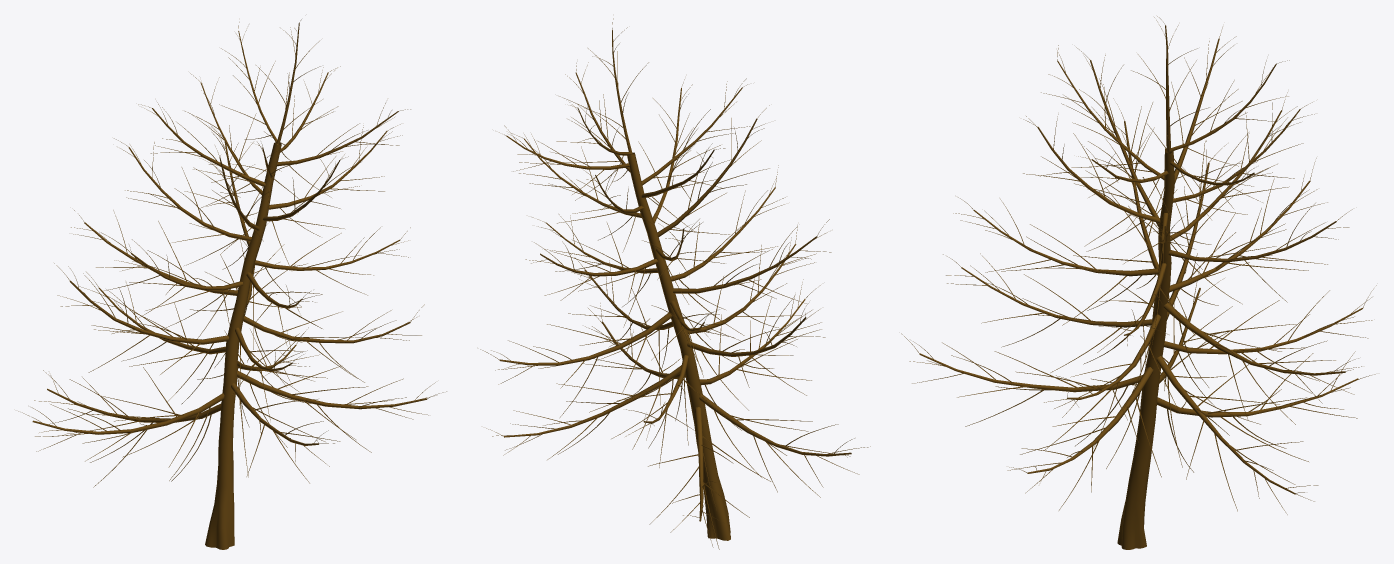
Rendered from ArbolSeco1.fbx.
3 renders of one model, left to right at view 1: azimuth 30°, elevation 25°; view 2: azimuth 150°, elevation 25°; view 3: azimuth 270°, elevation 25°, orthographic. The views are drawn at different scales.
Parts seen in each view (by area): view 1: Foliage001; view 2: Foliage001; view 3: Foliage001.
Boxes of the visible parts, left/top/right/bottom form: Foliage001: left=18, top=19, right=446, bottom=549; Foliage001: left=480, top=18, right=870, bottom=549; Foliage001: left=901, top=16, right=1376, bottom=549.
Bounding box in the file's own units: 291 × 382 × 284.
